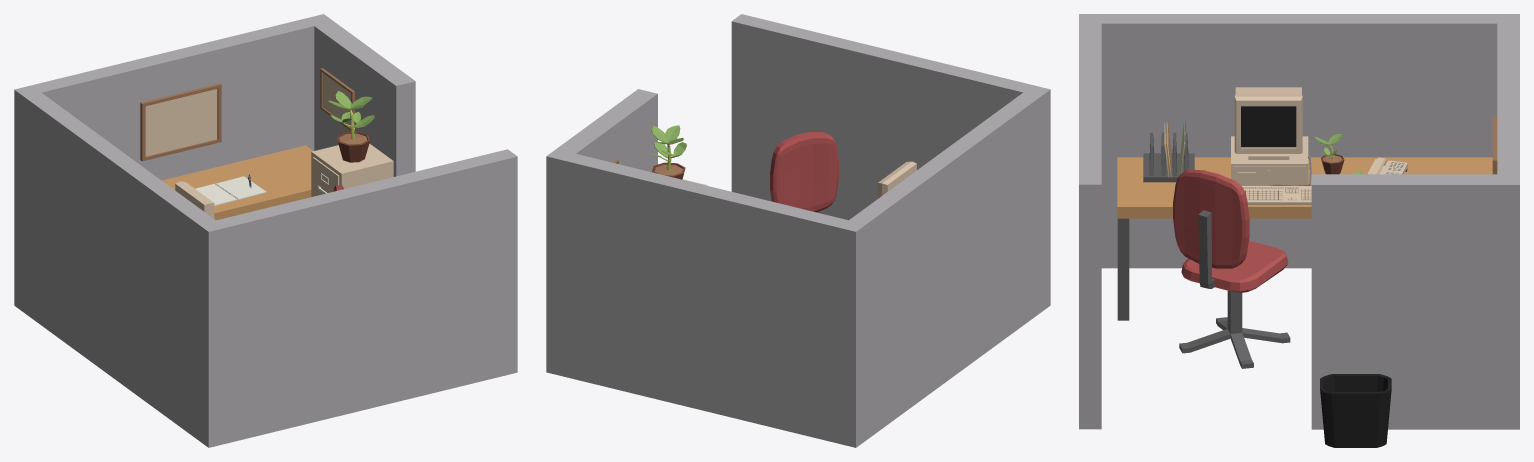
Rendered from cubicle_map.glb.
3 renders of one model, left to right at view 1: azimuth 30°, elevation 25°; view 2: azimuth 150°, elevation 25°; view 3: azimuth 270°, elevation 25°, orthographic. The views are drawn at different scales.
Visible parts, largest first — view 1: Cubicle, Cubicle_Table, PictureFrame, FileCabinet, Plant.001, Notebook, PictureFrame.001, Computer; view 2: Cubicle, Chair, Plant.001, Computer; view 3: Cubicle, Chair, Cubicle_Table, Computer, Trashcan, FileDivider, Keyboard, Smaller_Plant.001, Phone.001.
Boxes of the visible parts, x1,y1,x2,y2 form: Cubicle: [14, 14, 517, 447]; Cubicle_Table: [162, 145, 313, 220]; PictureFrame: [140, 83, 221, 161]; FileCabinet: [311, 143, 393, 196]; Plant.001: [327, 91, 374, 162]; Notebook: [195, 176, 266, 205]; PictureFrame.001: [320, 68, 354, 131]; Computer: [175, 181, 214, 218]; Cubicle: [546, 14, 1050, 447]; Chair: [770, 132, 838, 212]; Plant.001: [649, 125, 686, 179]; Computer: [877, 161, 916, 198]; Cubicle: [1079, 14, 1519, 429]; Chair: [1173, 169, 1290, 368]; Cubicle_Table: [1117, 157, 1492, 320]; Computer: [1231, 87, 1308, 185]; Trashcan: [1320, 374, 1391, 447]; FileDivider: [1143, 132, 1194, 182]; Keyboard: [1242, 186, 1311, 204]; Smaller_Plant.001: [1313, 134, 1344, 174]; Phone.001: [1367, 157, 1407, 174].
Size of what is drawn, in the model's own units: 2.8 by 1.68 by 2.72.
Materials: 1 (1 with a texture image).
